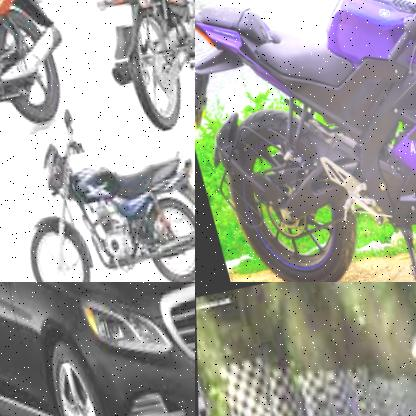bike: (195, 0, 416, 282), (0, 103, 195, 282), (63, 0, 195, 139)
car: (0, 282, 195, 416), (254, 367, 416, 416)
